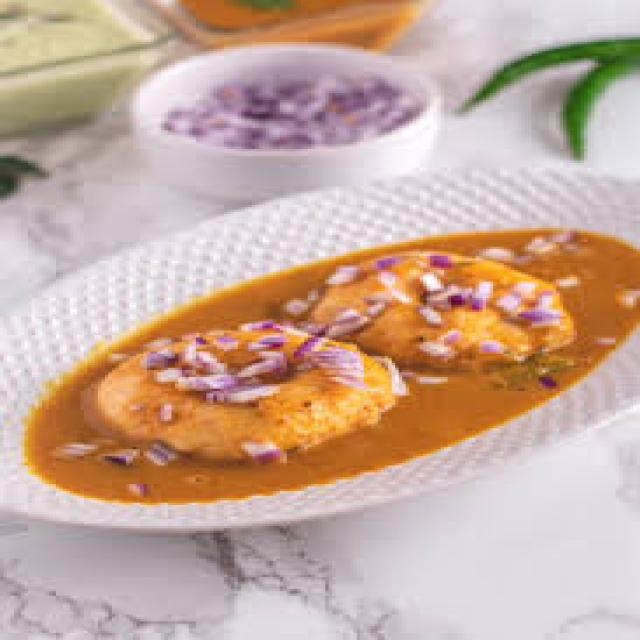MEDU VADA: (91, 321, 406, 463), (283, 251, 574, 368)
